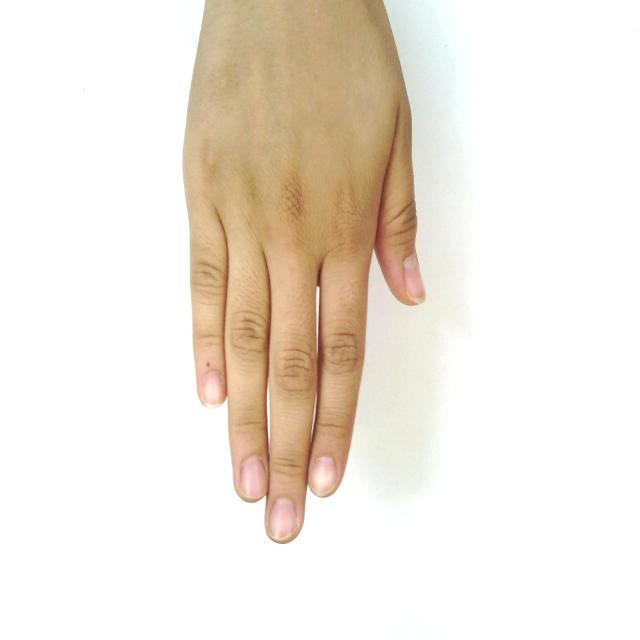Fingernail: (270, 498, 296, 540), (241, 458, 266, 499), (310, 457, 335, 495), (405, 256, 426, 301), (203, 371, 223, 405)
